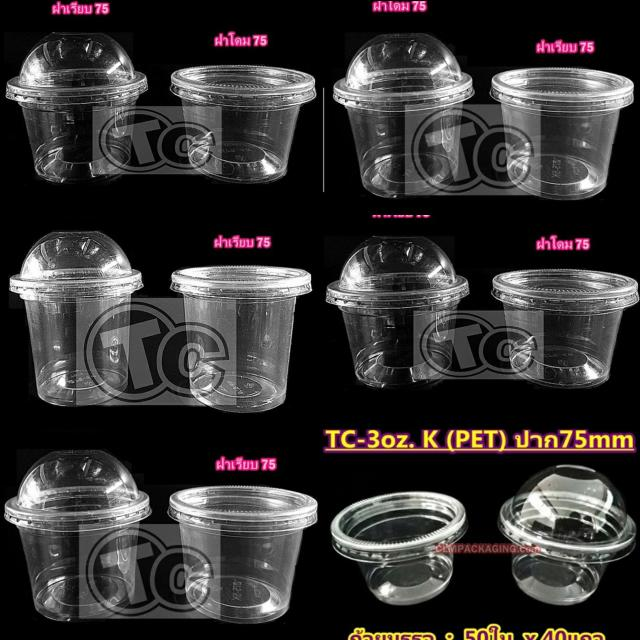plastik: (4, 449, 150, 620), (333, 32, 474, 197), (9, 231, 141, 404), (325, 236, 469, 386), (5, 32, 146, 181), (170, 265, 310, 412), (168, 485, 316, 621), (497, 465, 635, 604), (489, 66, 632, 199), (169, 64, 315, 182), (491, 268, 637, 386), (330, 491, 466, 604)
